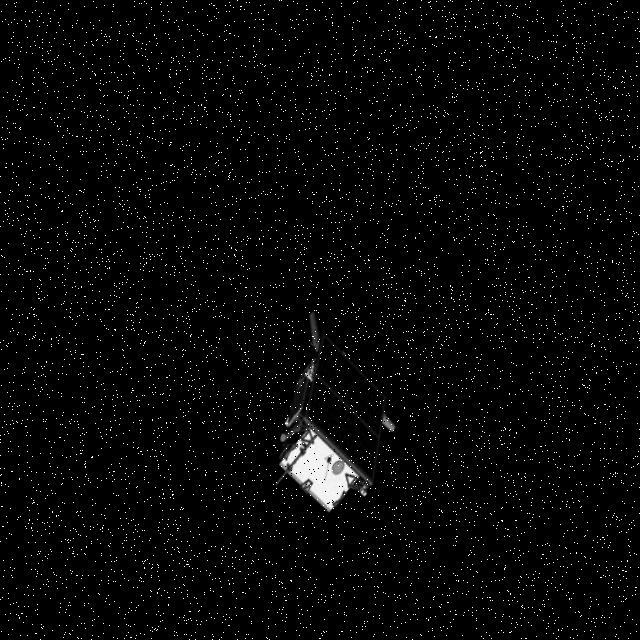medium_debris: (270, 300, 408, 510)
